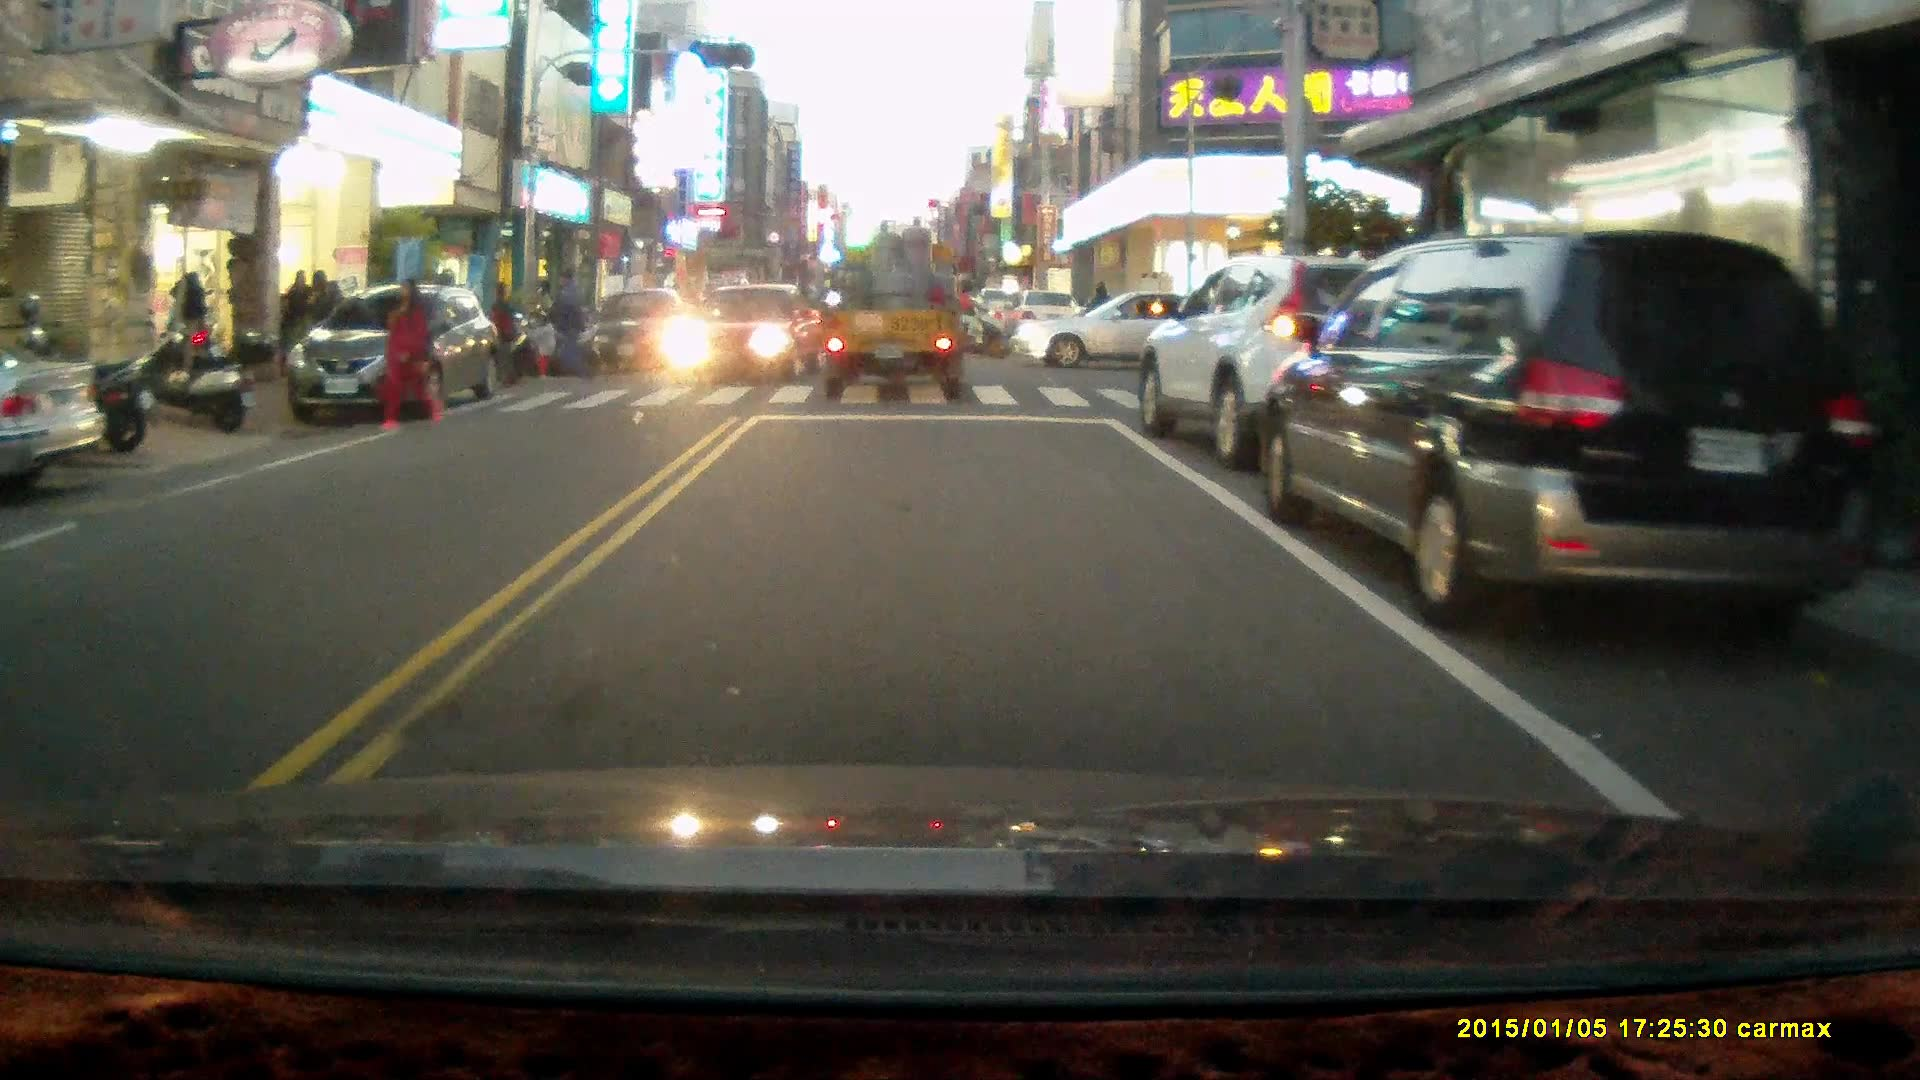pedestrian: (377, 274, 442, 432), (543, 263, 594, 383), (480, 276, 522, 388), (168, 268, 210, 371), (531, 308, 564, 382)
rider: (924, 269, 1010, 359)
vehicle: (1263, 232, 1856, 623), (1136, 251, 1469, 467), (285, 284, 495, 426), (818, 217, 975, 398), (1016, 286, 1242, 370), (664, 284, 818, 383), (1, 342, 100, 467), (576, 288, 700, 377)
